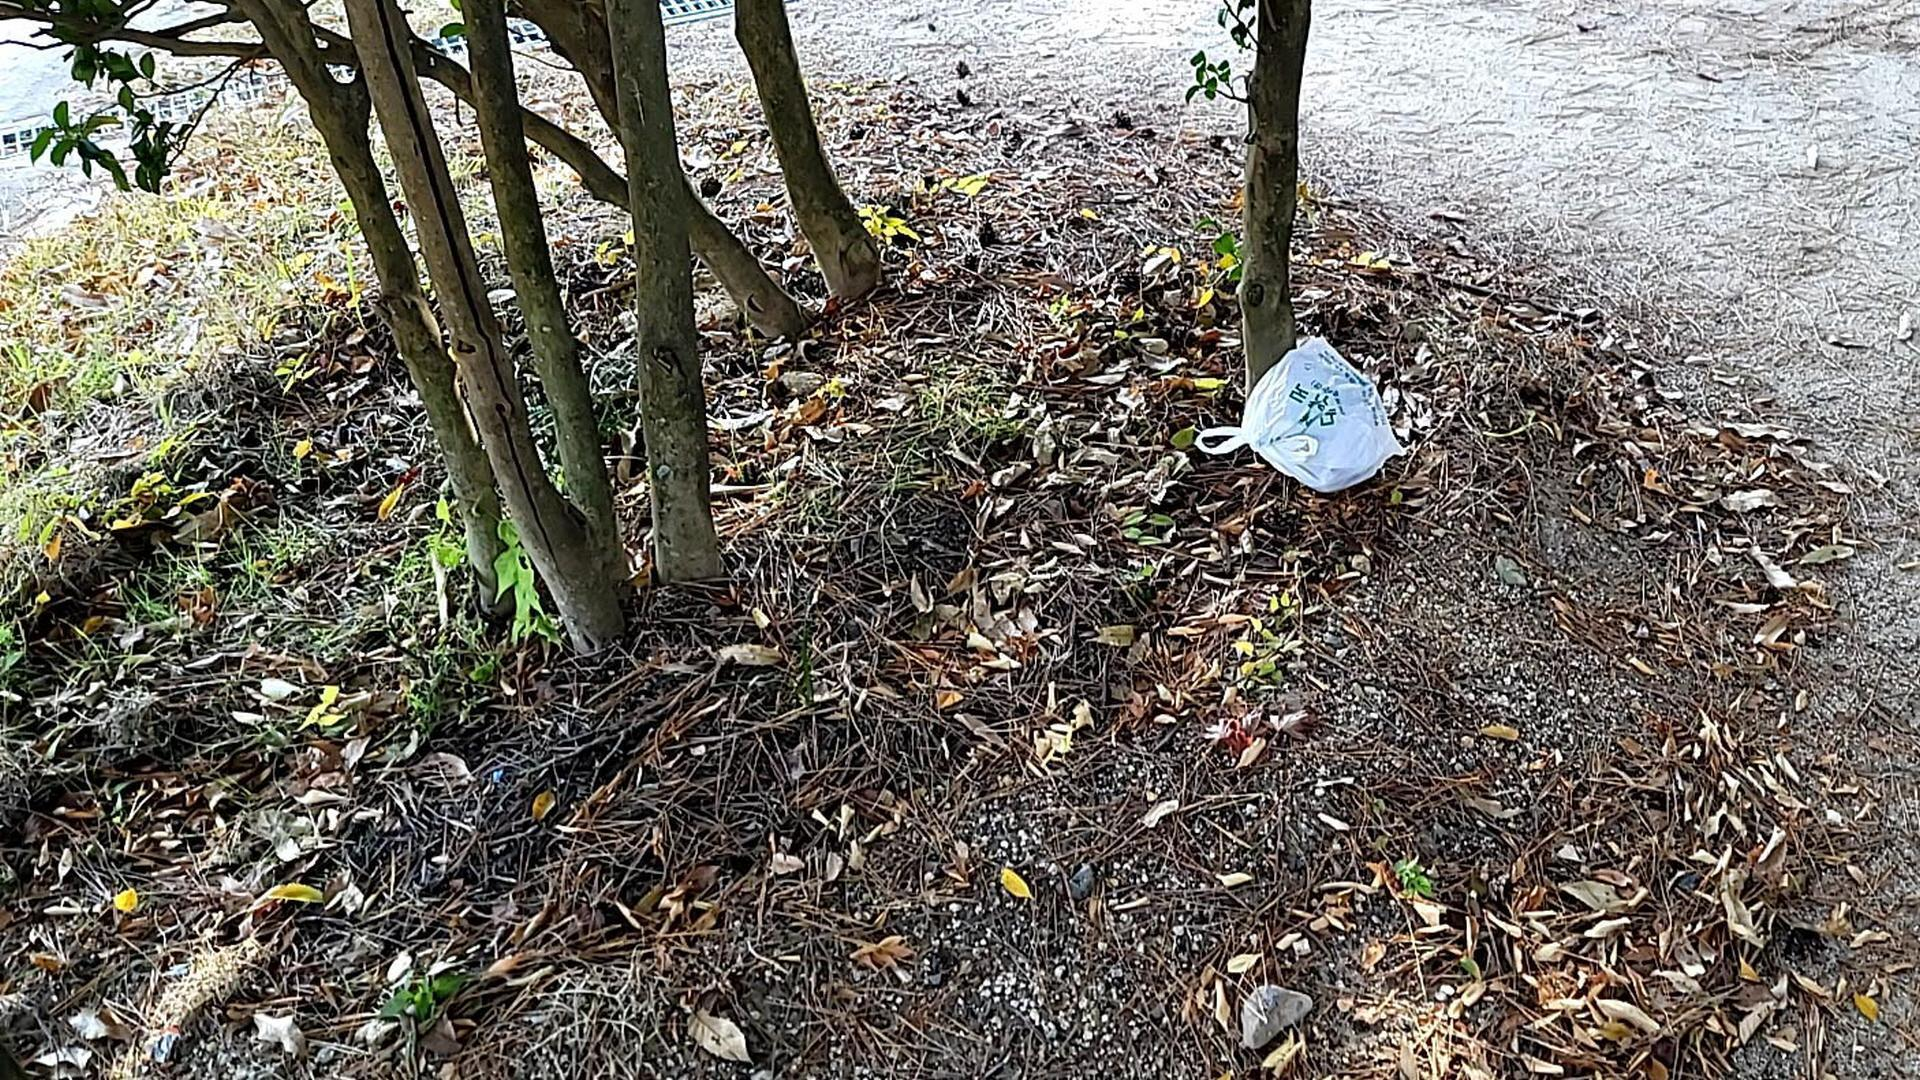white_bag: (1175, 336, 1414, 505)
